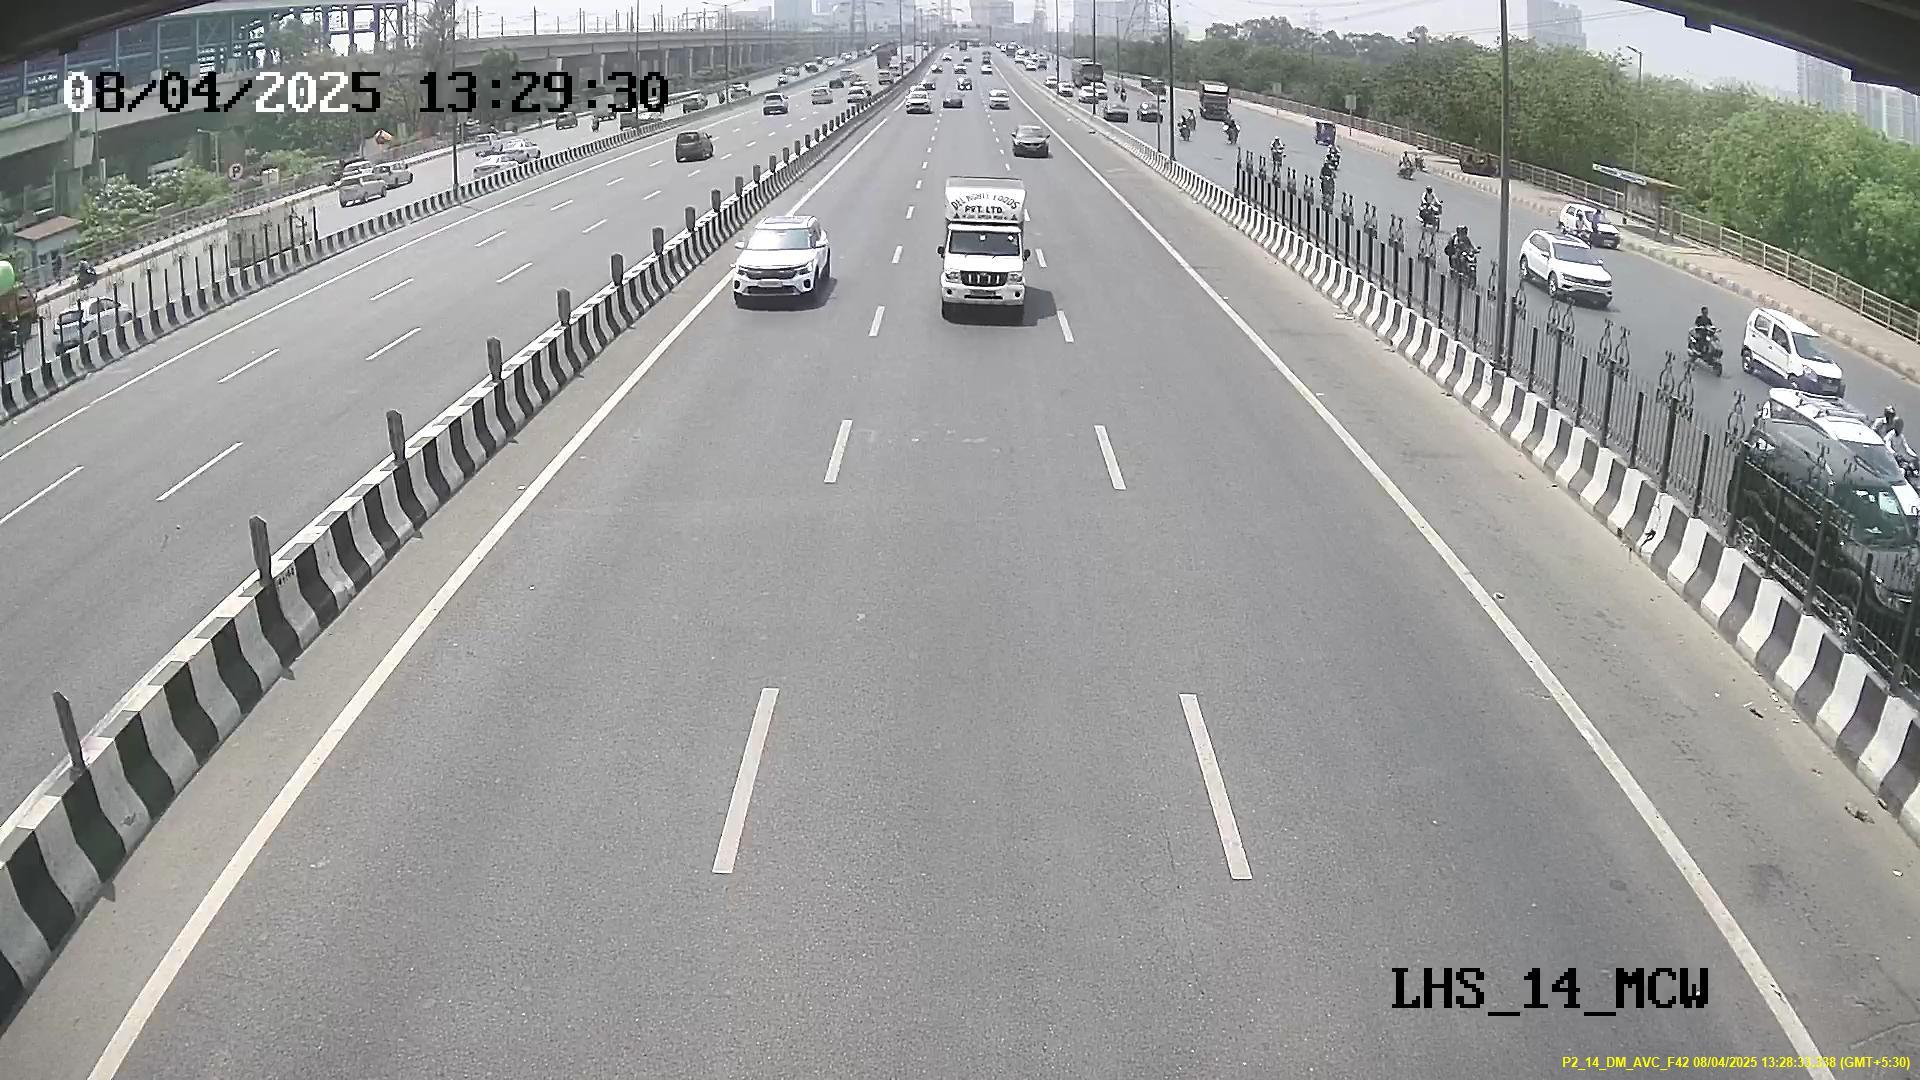car: (936, 193, 1033, 311), (725, 212, 833, 307)
